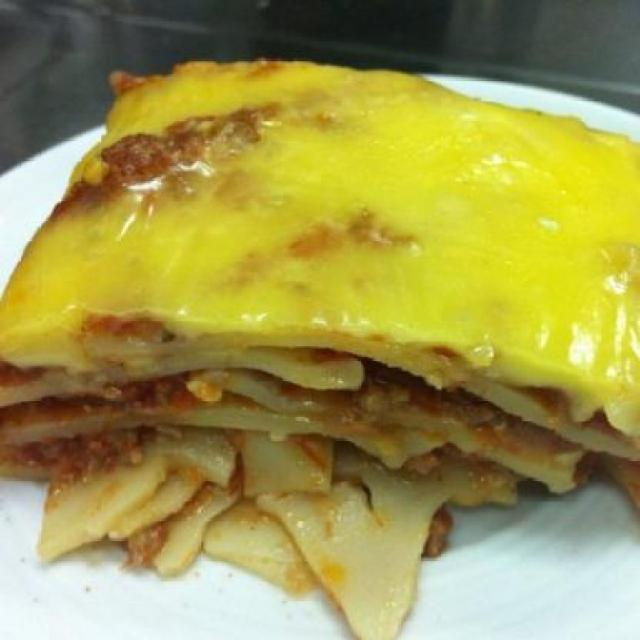Lasagna: (21, 60, 633, 574)
